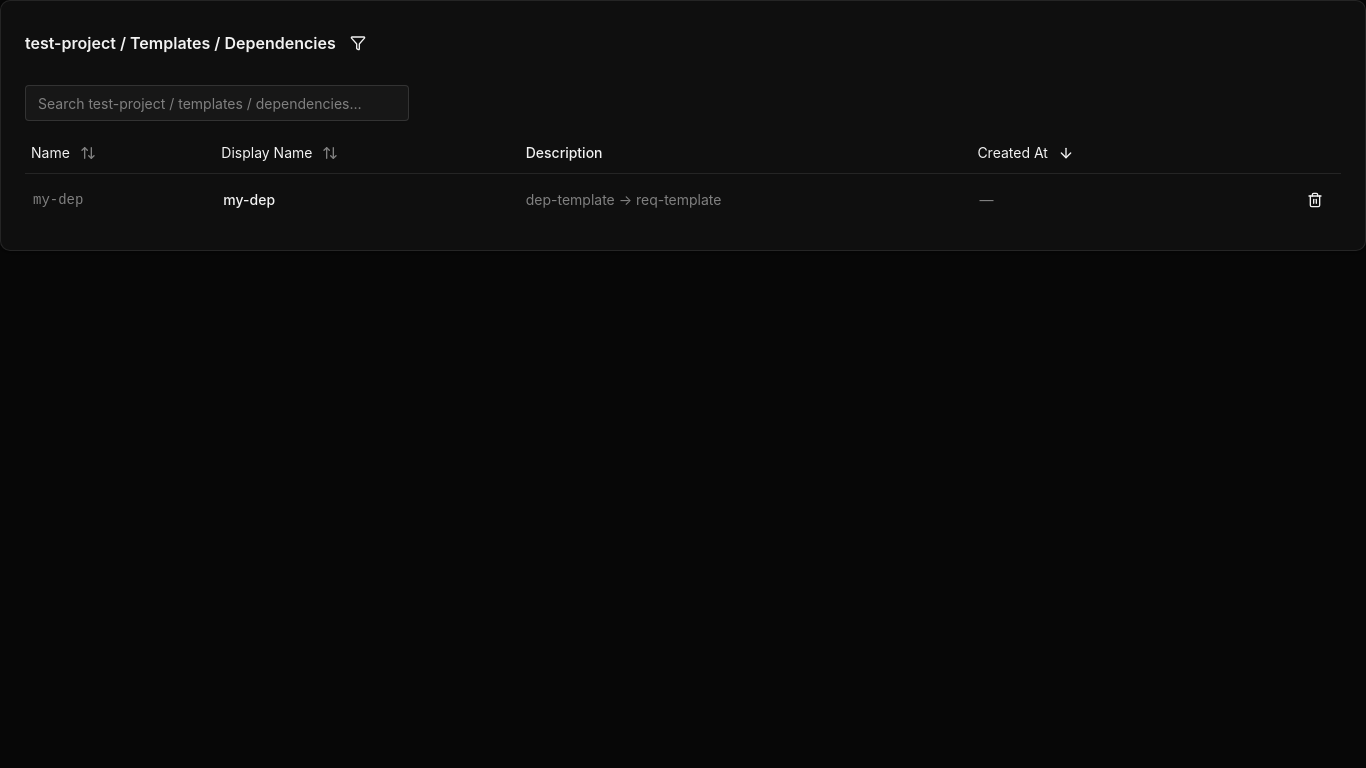
Test: TemplateDependenciesIndexPage (HOL-1013) › delete button opens ConfirmDeleteDialog
Click the button named "delete my-dep" at (1315, 200), box [1297,182,1333,218]
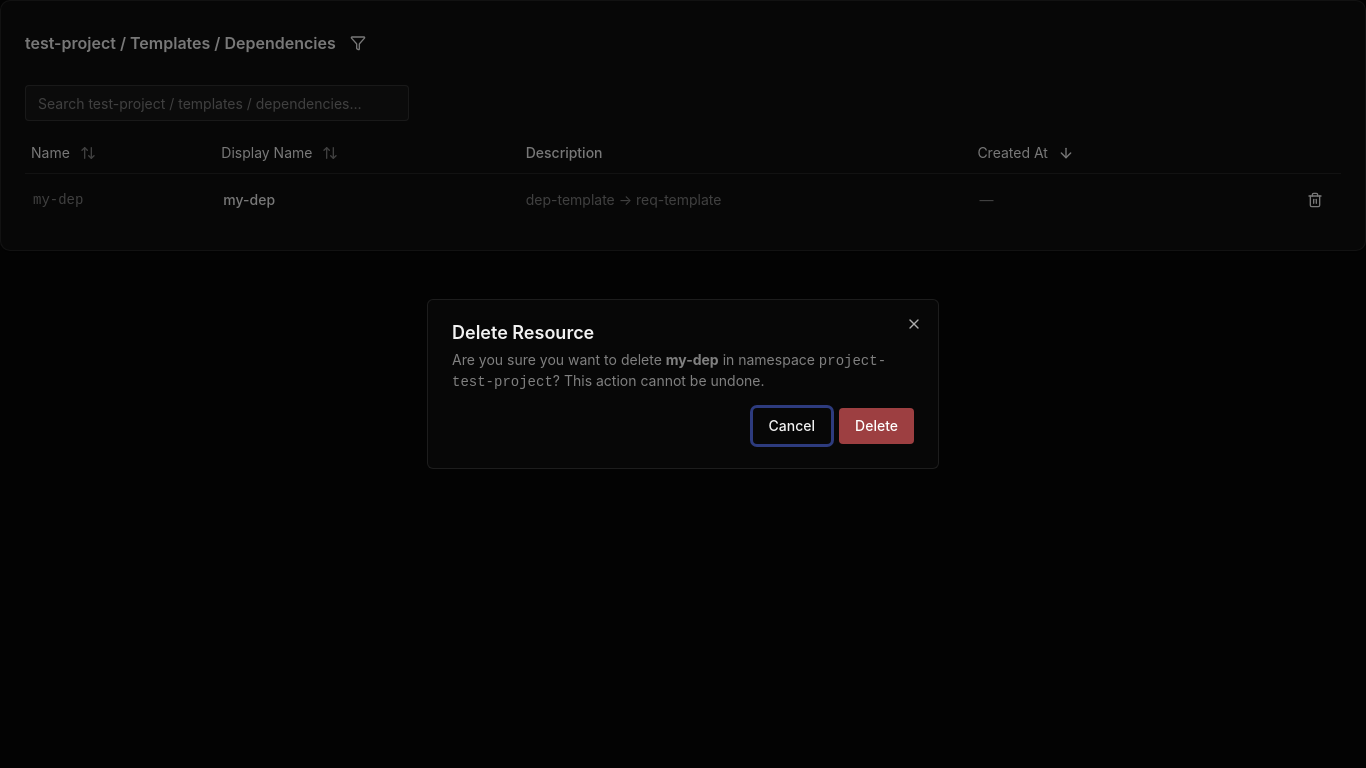
Expected: the dialog is shown, [427,299,939,469]
